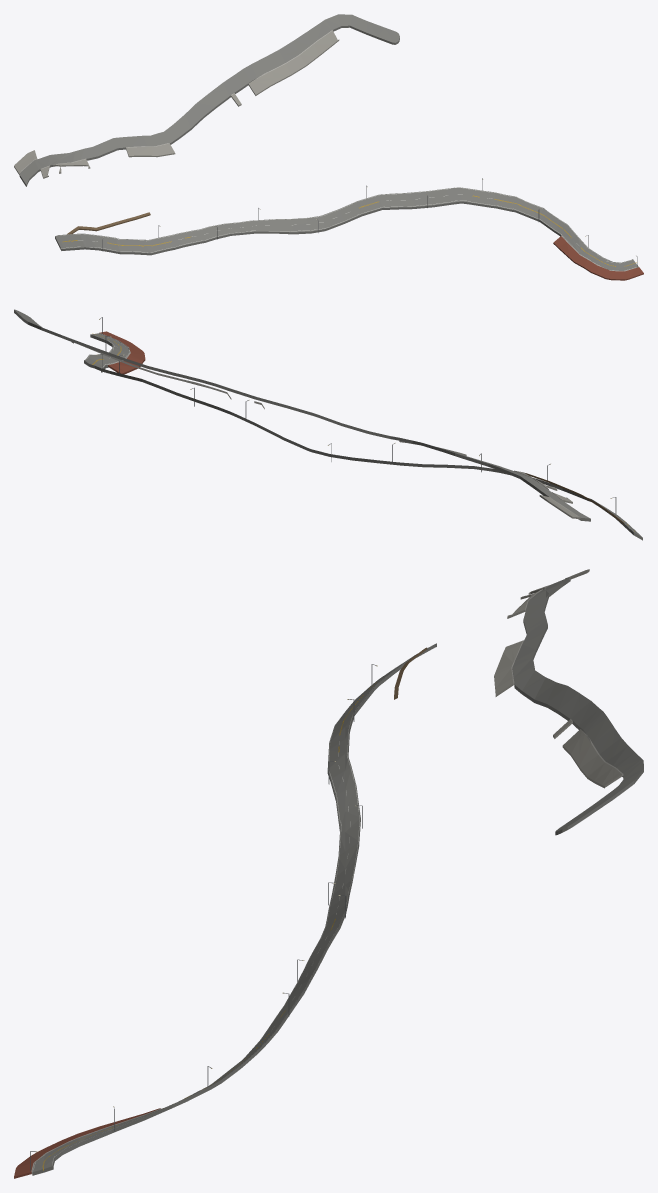
3 renders of one model, top to bottom at view 1: azimuth 30°, elevation 25°; view 2: azimuth 150°, elevation 25°; view 3: azimuth 270°, elevation 25°, orthographic. The views are drawn at different scales.
Bounding box in the file's own units: 295 × 99.02 × 188.
